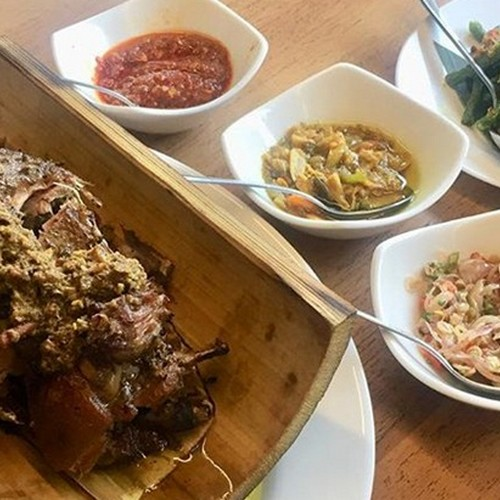bebek timbungan: (3, 137, 234, 468)
